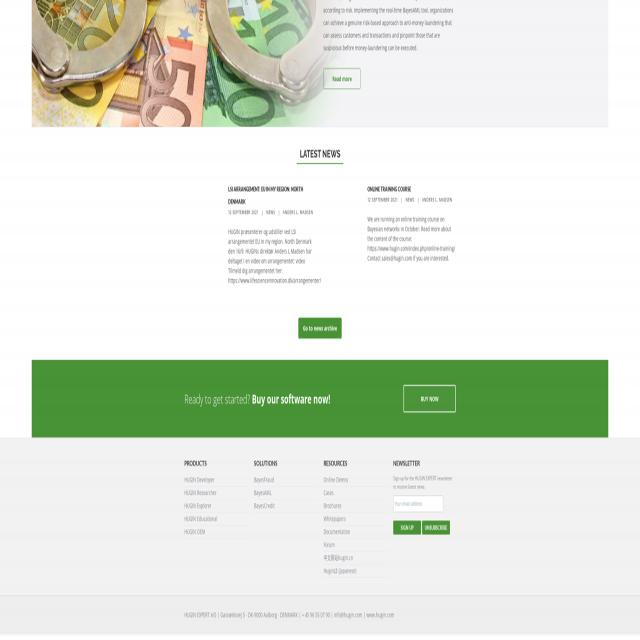button: (404, 385, 456, 412), (298, 318, 342, 338), (324, 69, 361, 89), (393, 521, 421, 534), (422, 521, 450, 534)
field: (393, 496, 443, 512)
